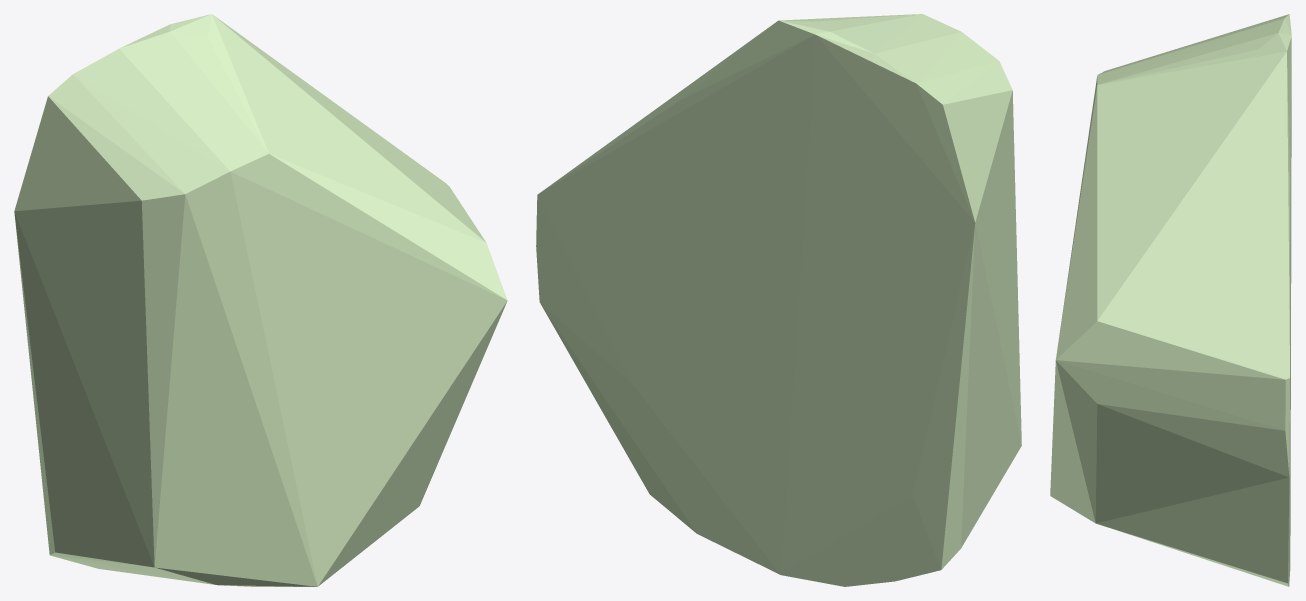
File: kuka_robot_base_coll_15.dae
3 views of the same model, side by side, from view 1: azimuth 30°, elevation 25°; view 2: azimuth 150°, elevation 25°; view 3: azimuth 270°, elevation 25° (orthographic). The views are drawn at different scales.
Visible parts, largest first — view 1: Node_0000015C5C913BC0; view 2: Node_0000015C5C913BC0; view 3: Node_0000015C5C913BC0.
Boxes of the visible parts, x1,y1,x2,y2 form: Node_0000015C5C913BC0: (14, 14, 507, 586); Node_0000015C5C913BC0: (536, 14, 1021, 586); Node_0000015C5C913BC0: (1050, 14, 1291, 586).
Bounding box in the file's own units: 0.1743 × 0.2083 × 0.0881.
